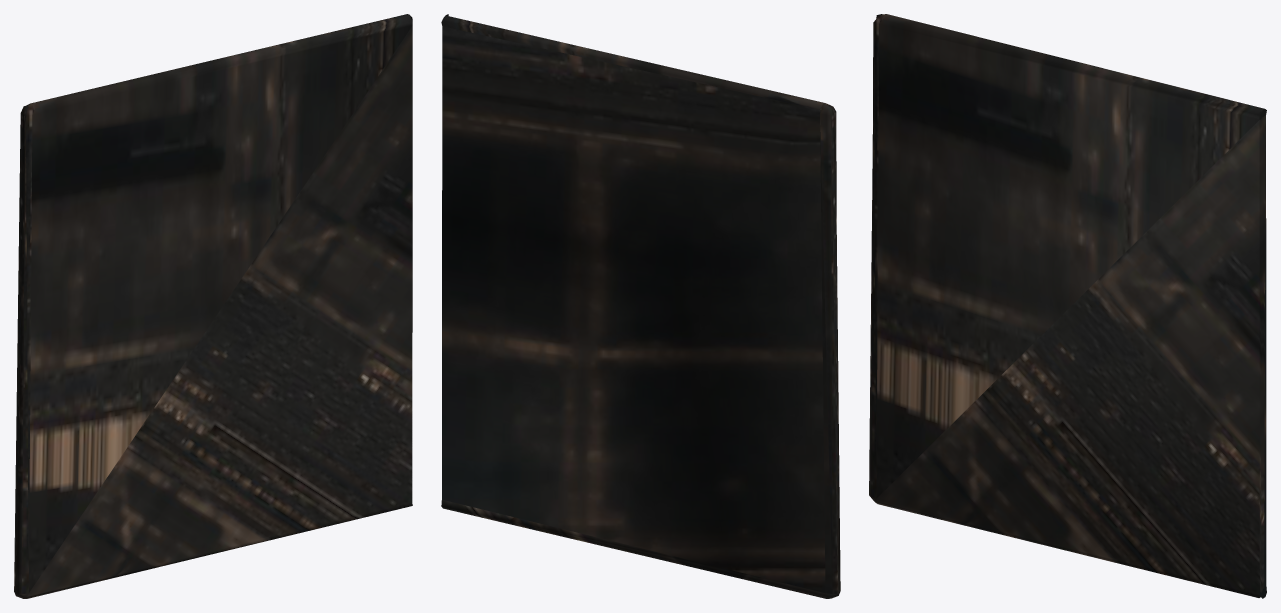
Rendered from hospital sign7.fbx.
3 renders of one model, left to right at view 1: azimuth 30°, elevation 25°; view 2: azimuth 150°, elevation 25°; view 3: azimuth 330°, elevation 25°, orthographic.
Visible parts, largest first — view 1: hospital sign7; view 2: hospital sign7; view 3: hospital sign7.
Part boxes in pixels (box(x1,y1,x2,y2)): hospital sign7: box(14, 14, 412, 598); hospital sign7: box(441, 14, 840, 598); hospital sign7: box(869, 14, 1266, 598).
Bounding box in the file's own units: 246 × 296 × 9.26.
